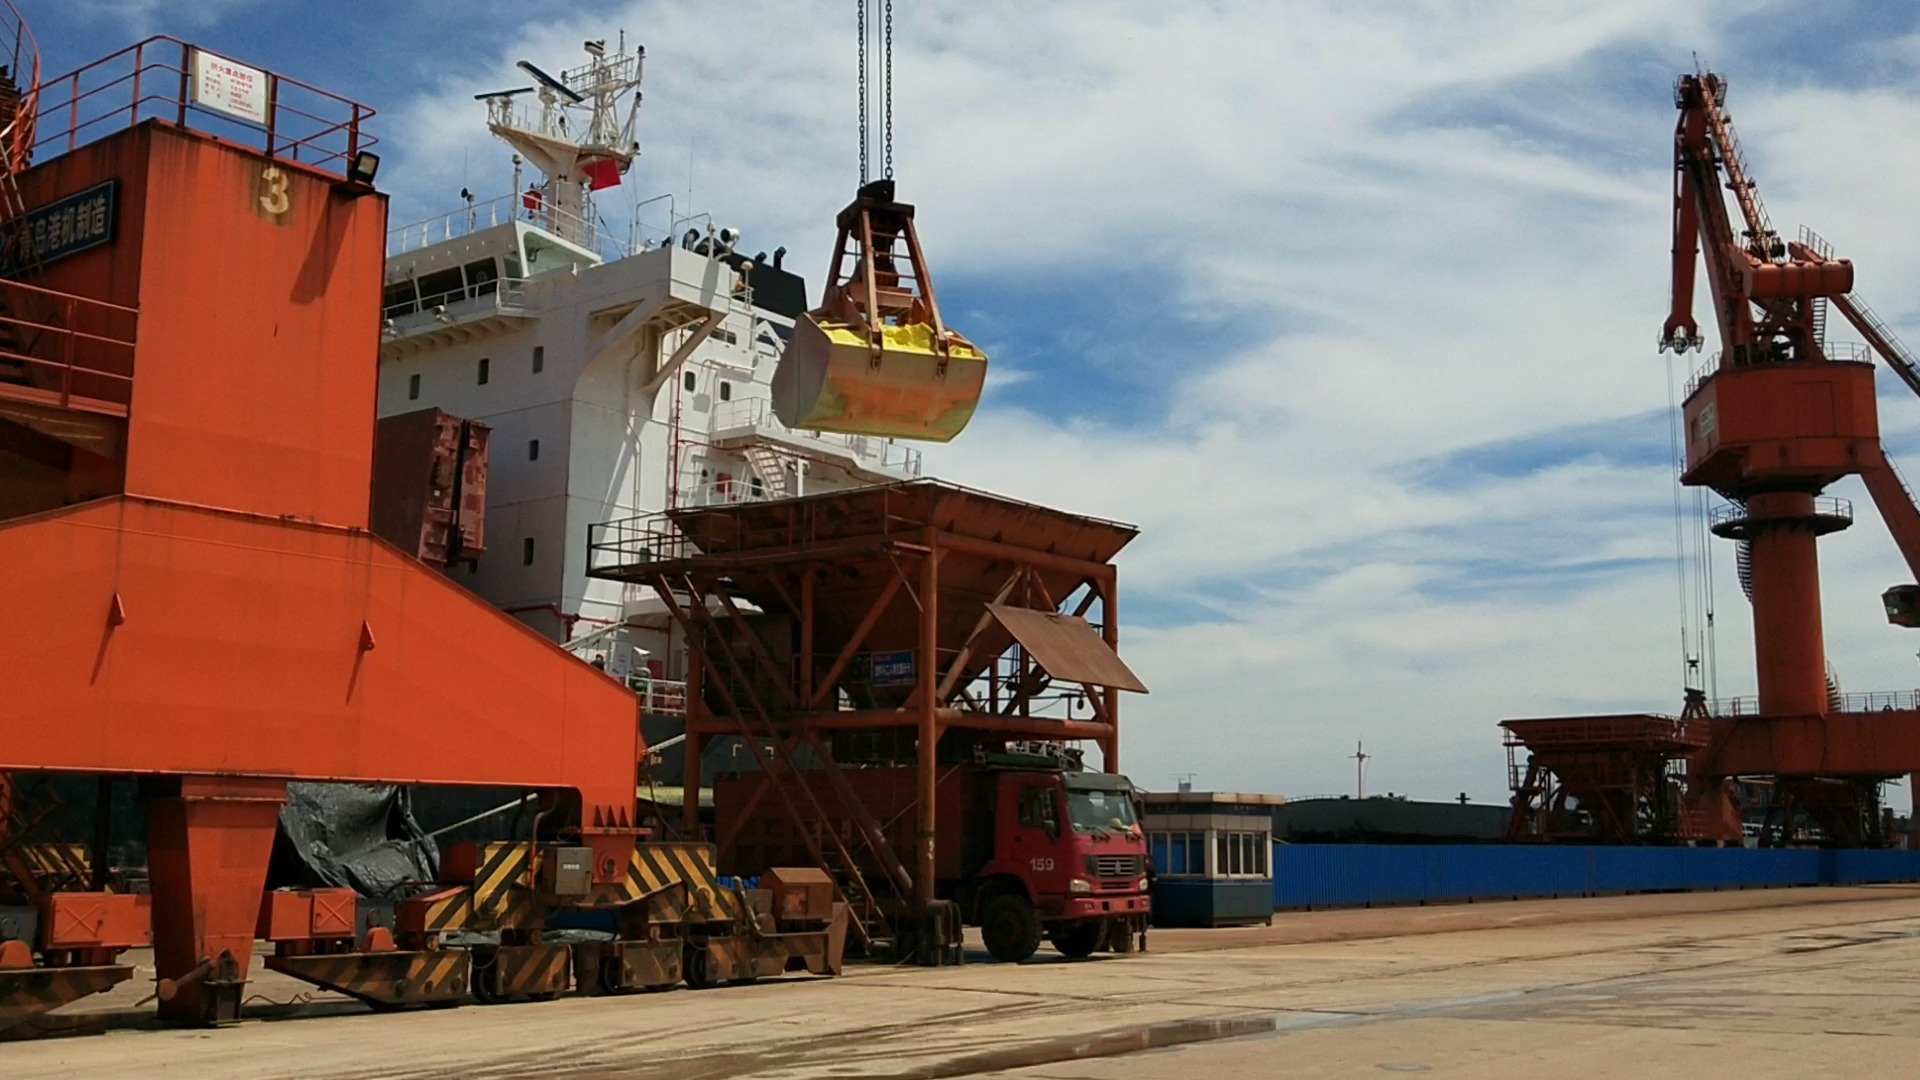grab: (762, 166, 992, 447)
truck: (943, 741, 1159, 965)
